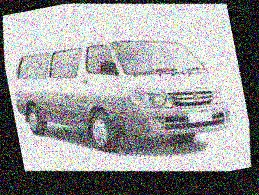van: (0, 0, 253, 186)
